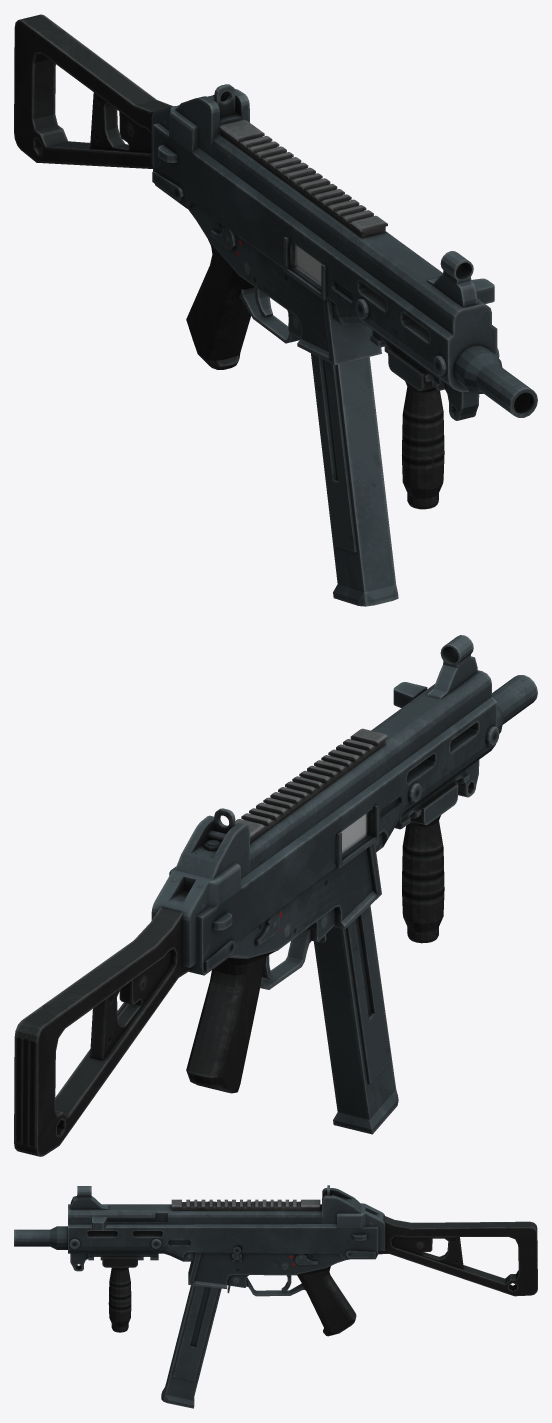
The model's file is UMP_40 (fbx).fbx.
The picture shows the model from 3 angles, top to bottom: view 1: azimuth 30°, elevation 25°; view 2: azimuth 150°, elevation 25°; view 3: azimuth 270°, elevation 25°; orthographic projection. The views are drawn at different scales.
Visible parts, largest first — view 1: base; view 2: base; view 3: base.
Boxes of the visible parts, x1,y1,x2,y2 form: base: (14,14,537,606); base: (14,635,537,1156); base: (14,1185,537,1408).
Bounding box in the file's own units: 0.0659 × 0.325 × 0.7103.
1 material, 1 textured.
